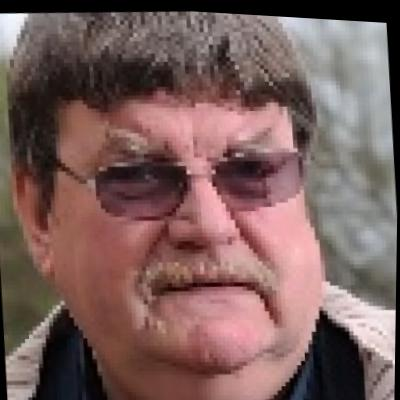angry: (52, 36, 328, 378)
